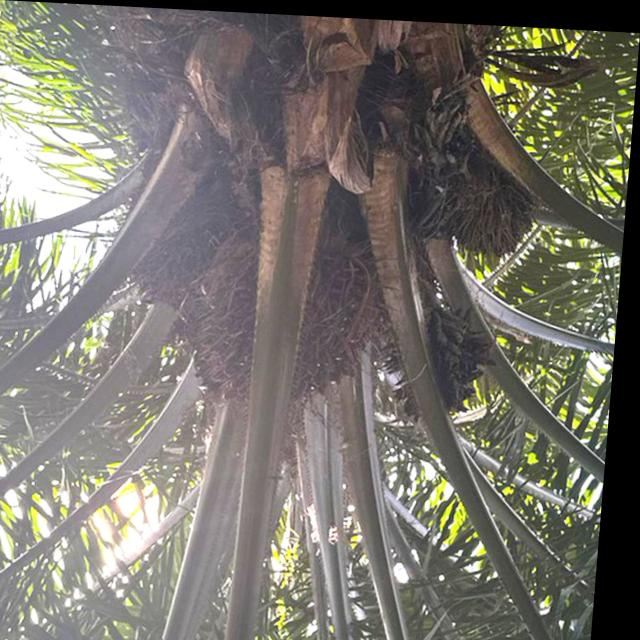ripe: (173, 205, 407, 423)
